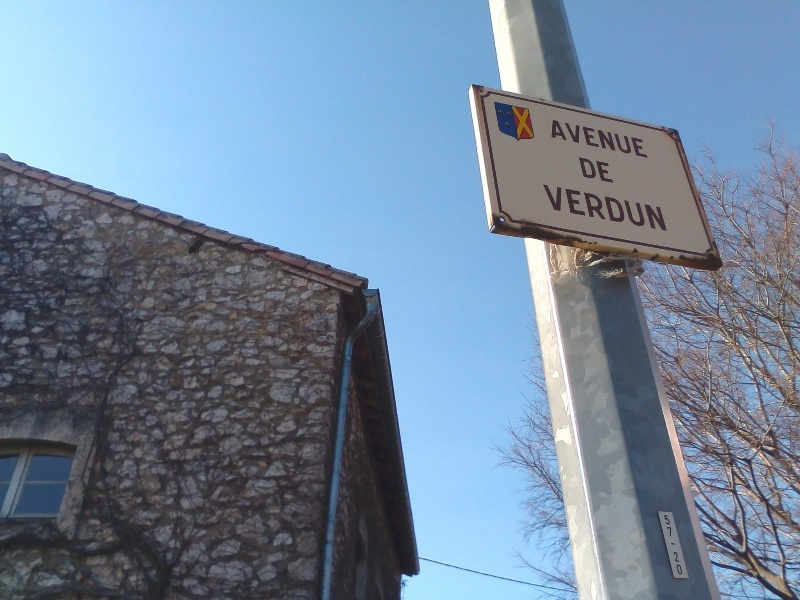text: (545, 183, 560, 233), (561, 183, 576, 233), (577, 183, 592, 233), (593, 183, 608, 233), (609, 183, 624, 233), (625, 183, 640, 233), (641, 183, 656, 233), (657, 183, 670, 233), (561, 118, 576, 160), (577, 118, 592, 160), (593, 118, 608, 160), (609, 118, 624, 160), (625, 118, 640, 160), (549, 118, 560, 160), (593, 156, 608, 184), (578, 156, 592, 184), (641, 118, 650, 160), (673, 551, 684, 576), (663, 515, 672, 538), (609, 156, 615, 184), (542, 183, 544, 233), (673, 542, 678, 548), (673, 515, 674, 538), (669, 542, 672, 548)
